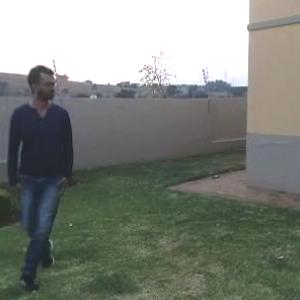follow: (19, 58, 82, 279)
